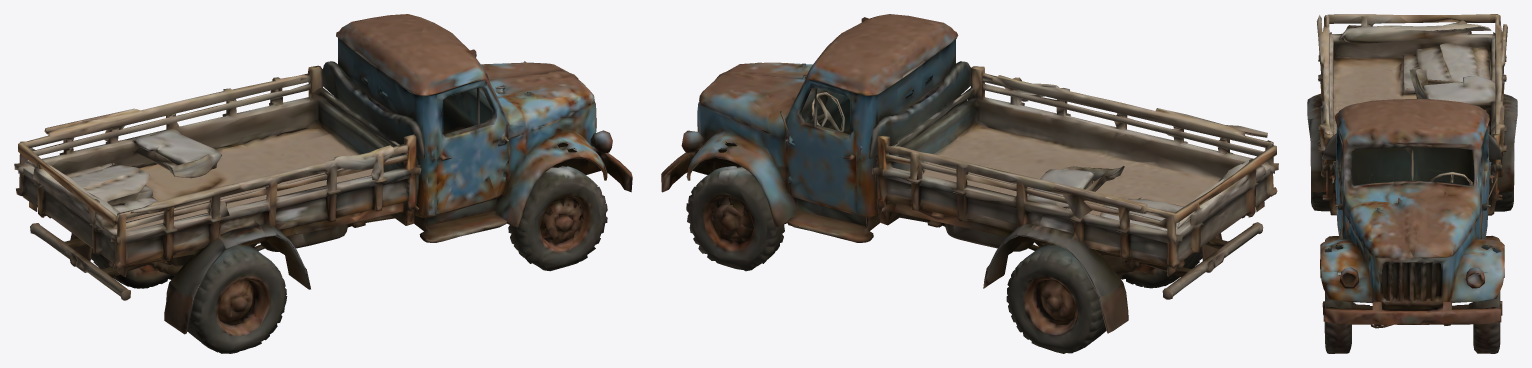
The model's file is zil_wreck.4c9dd962df.glb.
3 renders of one model, left to right at view 1: azimuth 30°, elevation 25°; view 2: azimuth 150°, elevation 25°; view 3: azimuth 270°, elevation 25°, orthographic. The views are drawn at different scales.
Visible parts, largest first — view 1: zil_wreck; view 2: zil_wreck; view 3: zil_wreck.
Boxes of the visible parts, x1=… form: zil_wreck: x1=14, y1=14, x2=632, y2=353; zil_wreck: x1=661, y1=14, x2=1278, y2=353; zil_wreck: x1=1307, y1=14, x2=1517, y2=353.
Bounding box in the file's own units: 6.6 × 2.68 × 2.61.
Materials: 1 (1 with a texture image).
